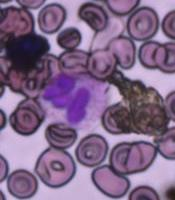N: (38, 69, 108, 130)
